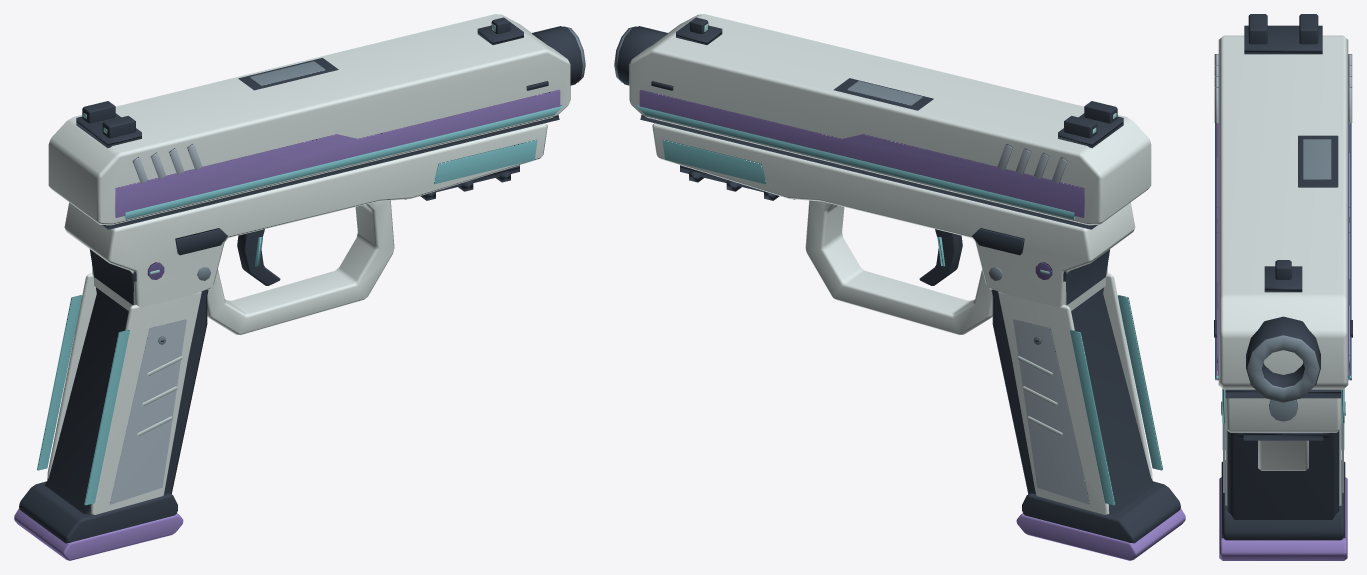
The model's file is SM_Mint_Pistol_Compact.glb.
3 views of the same model, side by side, from view 1: azimuth 30°, elevation 25°; view 2: azimuth 150°, elevation 25°; view 3: azimuth 270°, elevation 25° (orthographic). The views are drawn at different scales.
Visible parts, largest first — view 1: SM_Mint_Pistol_Compact; view 2: SM_Mint_Pistol_Compact; view 3: SM_Mint_Pistol_Compact.
Part boxes in pixels (x1,y1,x2,y2): SM_Mint_Pistol_Compact: (14, 14, 585, 560); SM_Mint_Pistol_Compact: (614, 14, 1185, 560); SM_Mint_Pistol_Compact: (1214, 14, 1352, 560).
Bounding box in the file's own units: 0.2551 × 0.1898 × 0.0461.
